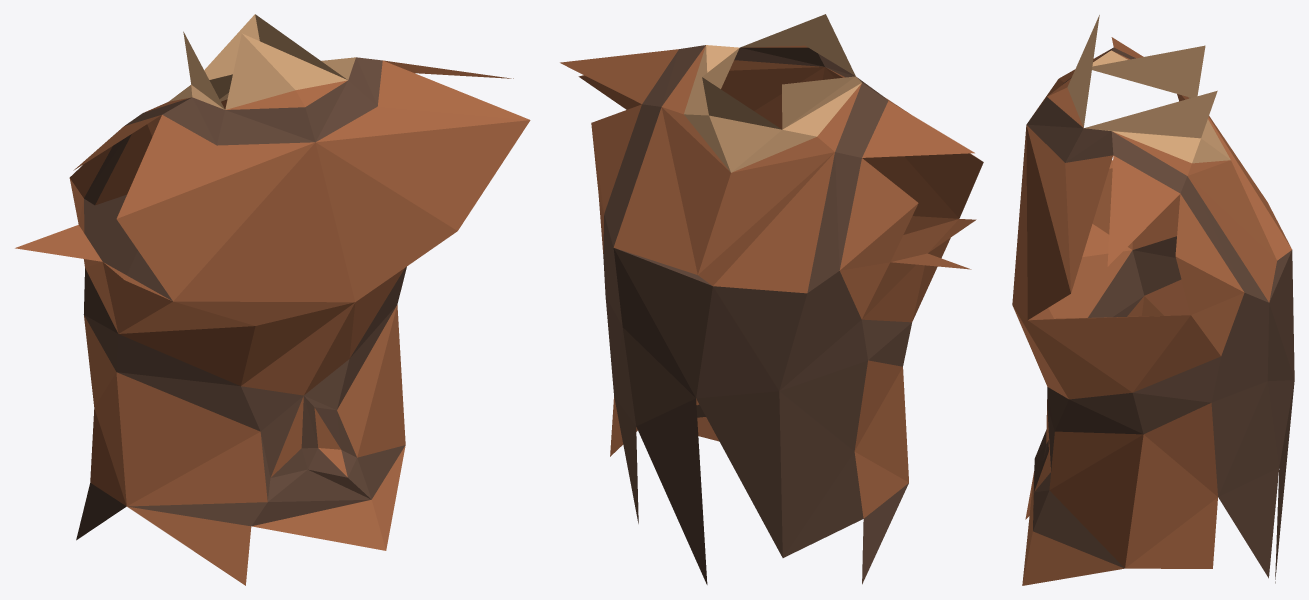
Rendered from Torso.obj.
3 renders of one model, left to right at view 1: azimuth 30°, elevation 25°; view 2: azimuth 150°, elevation 25°; view 3: azimuth 270°, elevation 25°, orthographic. The views are drawn at different scales.
Bounding box in the file's own units: 0.5854 × 0.6552 × 0.3036.
Materials: 1 (1 with a texture image).
